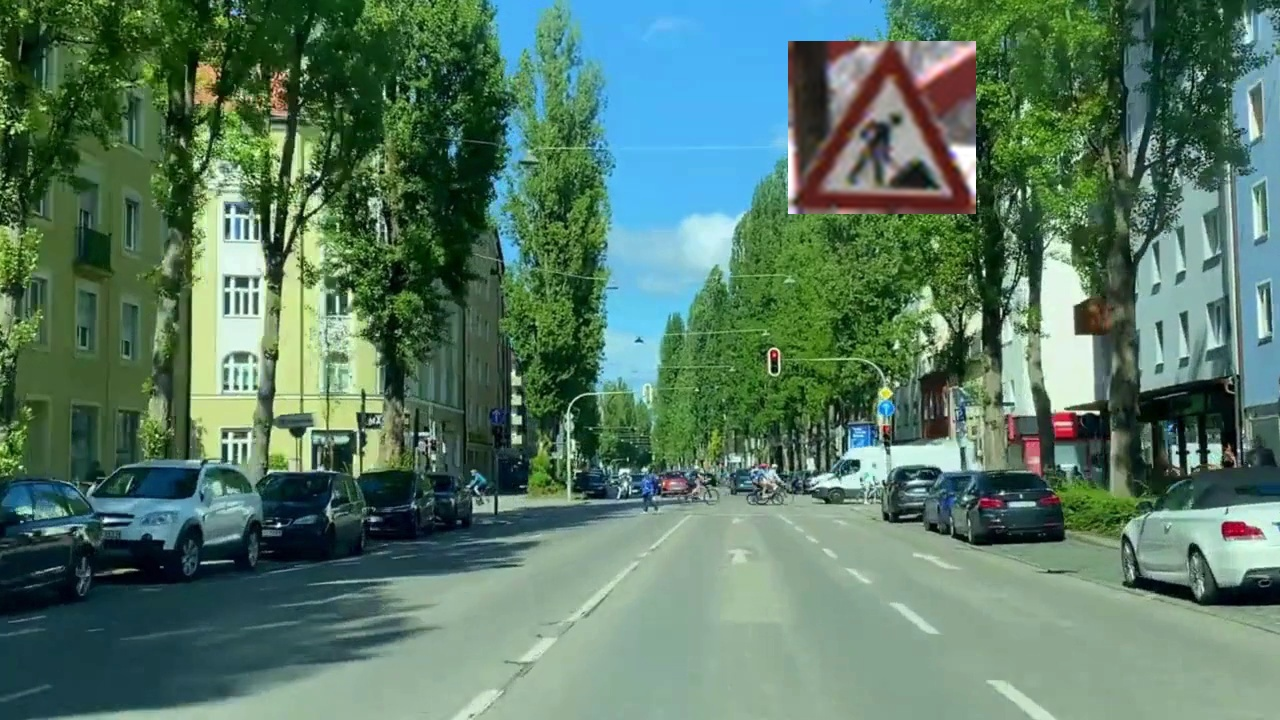Road work: (788, 41, 976, 214)
